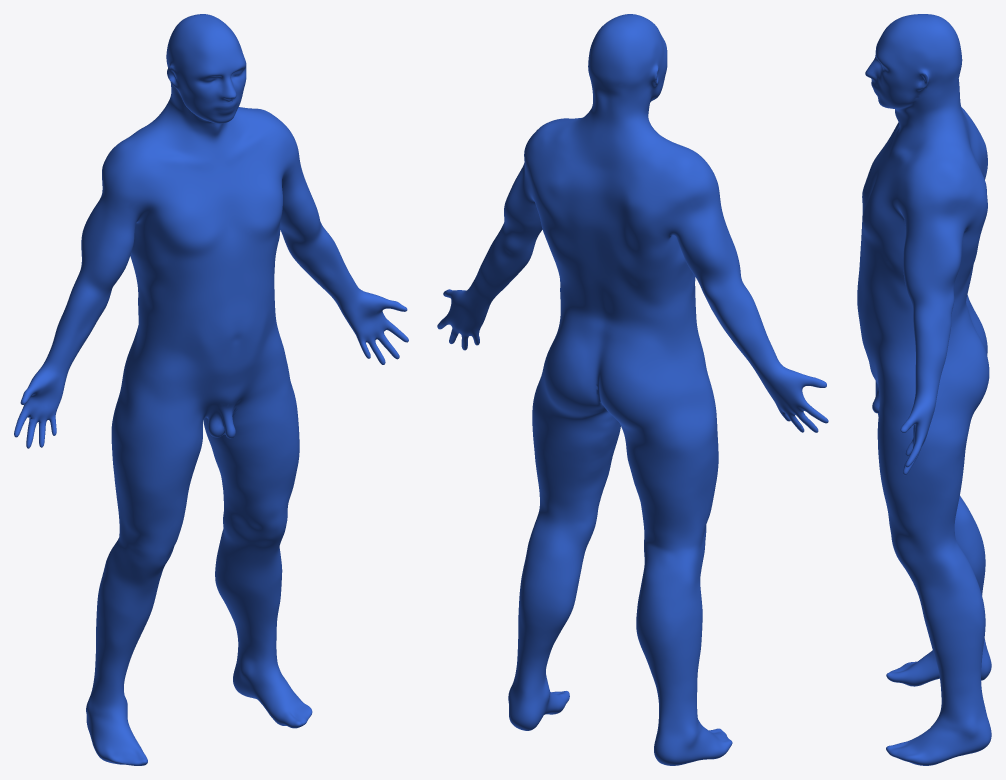
The model's file is vh_m_skin-80.glb.
3 views of the same model, side by side, from view 1: azimuth 30°, elevation 25°; view 2: azimuth 150°, elevation 25°; view 3: azimuth 270°, elevation 25° (orthographic). The views are drawn at different scales.
Visible parts, largest first — view 1: VH_M_skin; view 2: VH_M_skin; view 3: VH_M_skin.
Part boxes in pixels (x1=…): VH_M_skin: x1=14, y1=14, x2=408, y2=765; VH_M_skin: x1=437, y1=14, x2=828, y2=765; VH_M_skin: x1=857, y1=14, x2=991, y2=765.
Bounding box in the file's own units: 1.05 × 1.83 × 0.3162.
